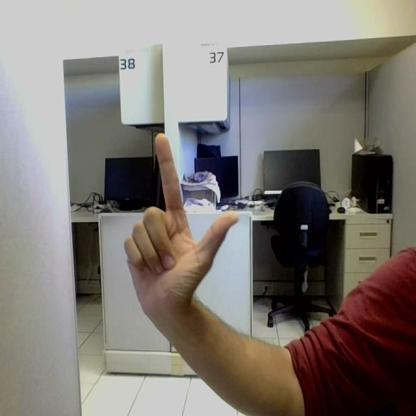L: (125, 134, 237, 311)
